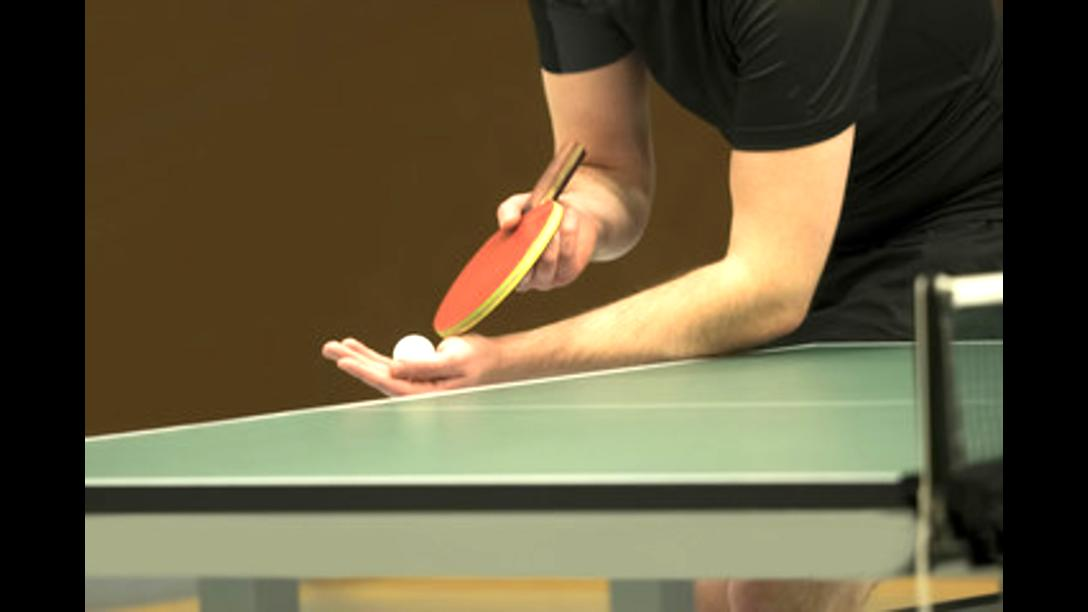Table-Tennis-Ball: (393, 335, 434, 360)
